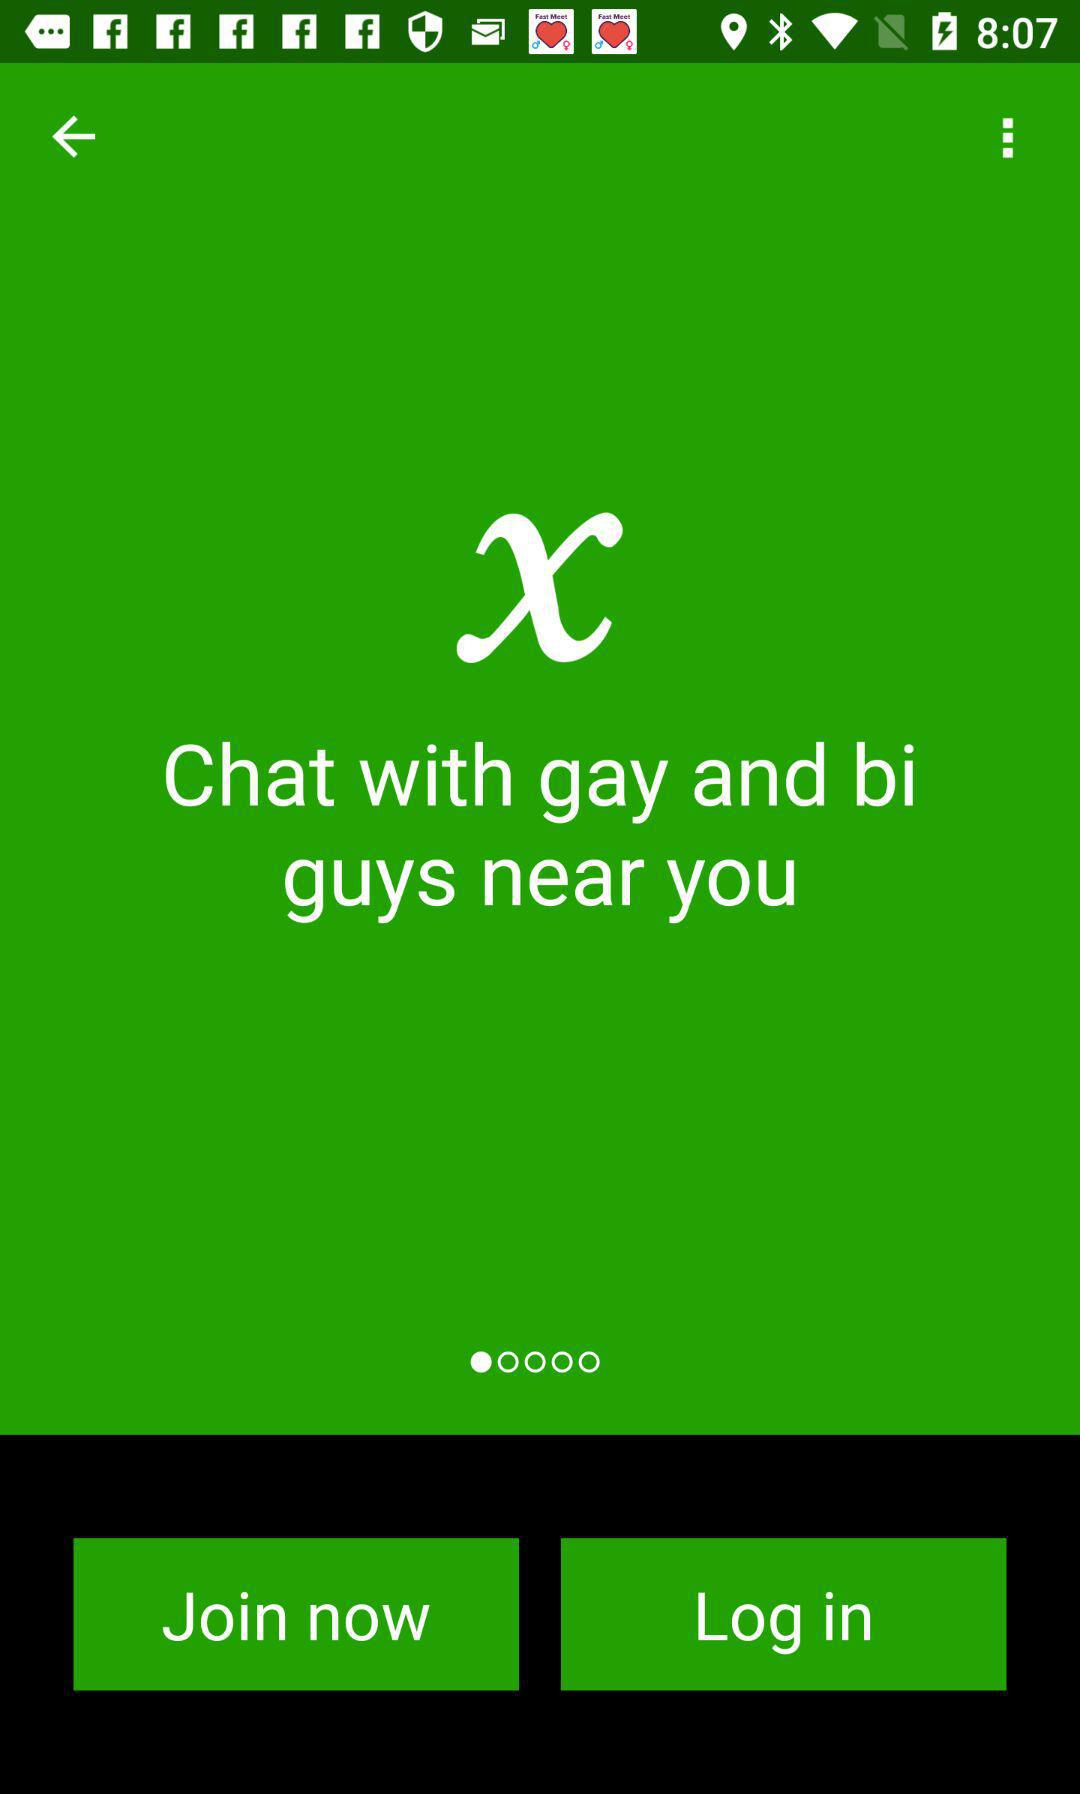Icon: (53, 115, 97, 160), (1001, 117, 1013, 160)
Image: (456, 511, 625, 665)
PageIndicator: (470, 1351, 602, 1375)
Text: (167, 741, 915, 925)
TextButton: (561, 1536, 1007, 1691), (74, 1538, 520, 1691)
UpperTaskBar: (1, 1, 1080, 64)
